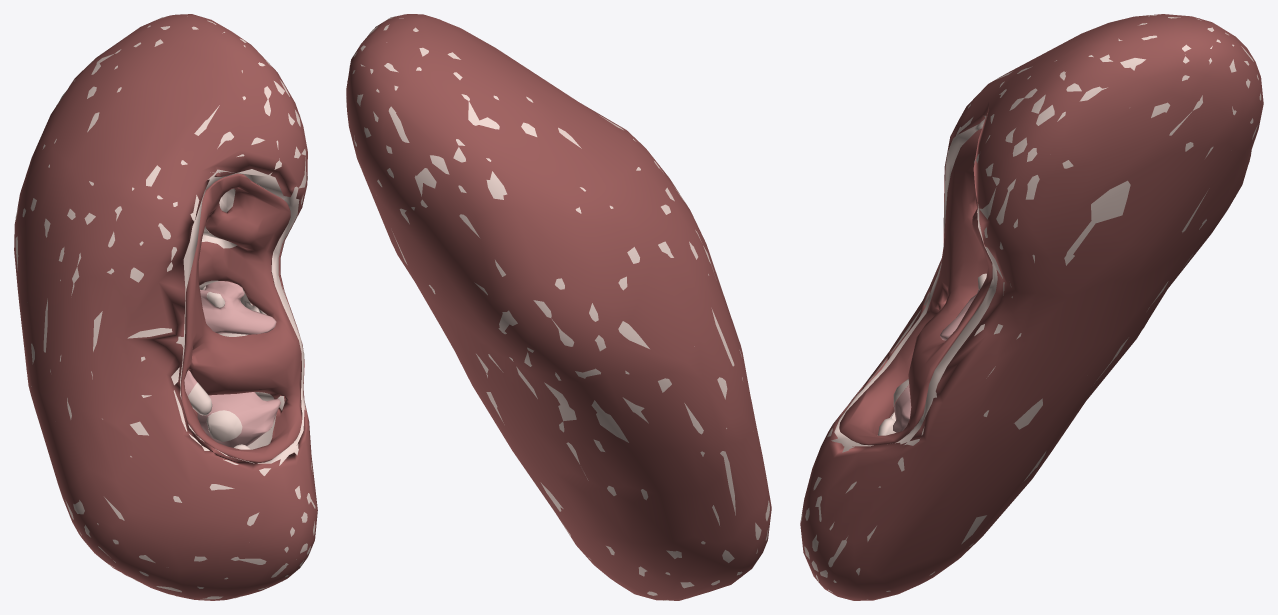
Rendered from vh_m_kidney_r.glb.
3 renders of one model, left to right at view 1: azimuth 30°, elevation 25°; view 2: azimuth 150°, elevation 25°; view 3: azimuth 270°, elevation 25°, orthographic. The views are drawn at different scales.
Parts seen in each view (by area): view 1: VH_M_kidney_capsule_R, VH_M_hilum_of_kidney_R, VH_M_outer_cortex_of_kidney_R, VH_M_renal_pyramid_f, VH_M_renal_pyramid_h, VH_M_renal_column_R, VH_M_renal_papilla_R_h, VH_M_renal_papilla_R_g; view 2: VH_M_kidney_capsule_R, VH_M_outer_cortex_of_kidney_R; view 3: VH_M_kidney_capsule_R, VH_M_hilum_of_kidney_R, VH_M_outer_cortex_of_kidney_R.
Boxes of the visible parts, <box> form: VH_M_kidney_capsule_R: <box>14,14,317,600</box>; VH_M_hilum_of_kidney_R: <box>180,173,302,463</box>; VH_M_outer_cortex_of_kidney_R: <box>15,16,317,599</box>; VH_M_renal_pyramid_f: <box>200,281,276,334</box>; VH_M_renal_pyramid_h: <box>197,392,280,447</box>; VH_M_renal_column_R: <box>199,188,276,449</box>; VH_M_renal_papilla_R_h: <box>206,410,242,441</box>; VH_M_renal_papilla_R_g: <box>188,382,212,415</box>; VH_M_kidney_capsule_R: <box>346,14,771,600</box>; VH_M_outer_cortex_of_kidney_R: <box>346,14,769,600</box>; VH_M_kidney_capsule_R: <box>800,14,1263,600</box>; VH_M_hilum_of_kidney_R: <box>839,128,992,445</box>; VH_M_outer_cortex_of_kidney_R: <box>801,15,1261,599</box>.
Size of the model in its own units: 0.0656 by 0.1125 by 0.0765.
